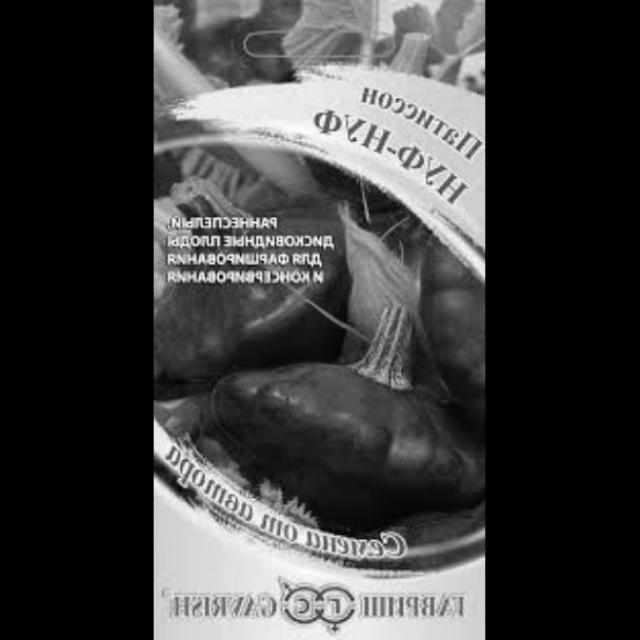bi dao: (203, 308, 484, 509), (155, 181, 369, 375)
